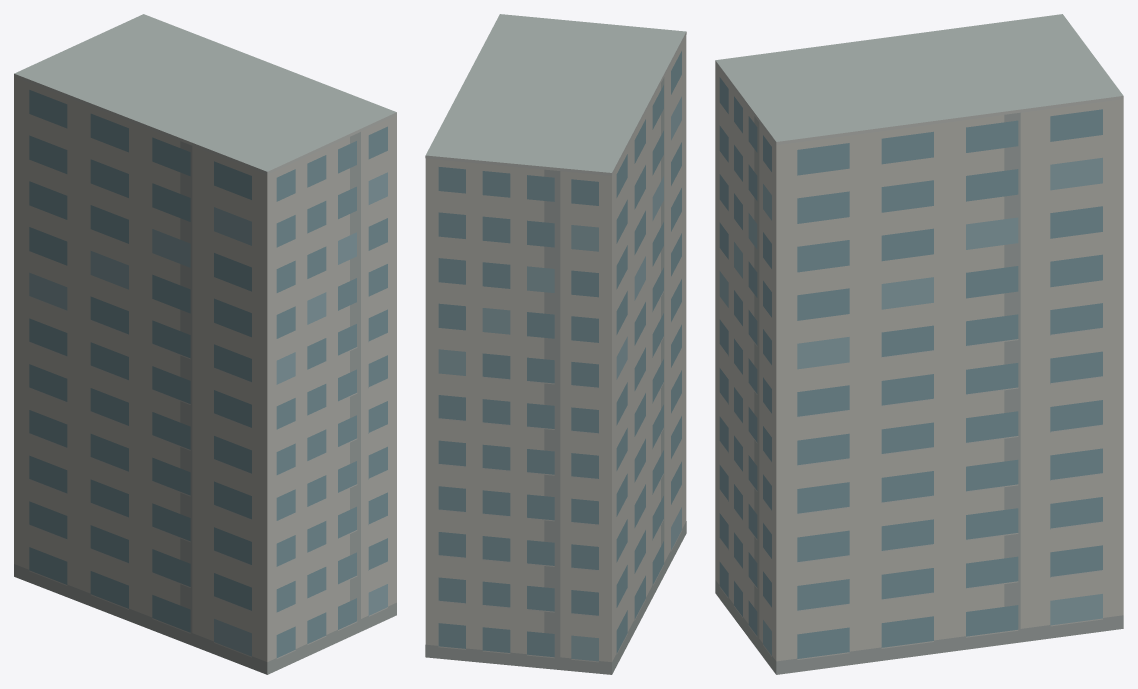
File: residential-5128b538-7953-4126-b828-2611d85b6aa5.glb
3 renders of one model, left to right at view 1: azimuth 30°, elevation 25°; view 2: azimuth 150°, elevation 25°; view 3: azimuth 270°, elevation 25°, orthographic. The views are drawn at different scales.
Parts seen in each view (by area): view 1: residential-5128b538-7953-4126-b828-2611d85b6aa5.tmp; view 2: residential-5128b538-7953-4126-b828-2611d85b6aa5.tmp; view 3: residential-5128b538-7953-4126-b828-2611d85b6aa5.tmp.
Part boxes in pixels (left/top/right/bottom): residential-5128b538-7953-4126-b828-2611d85b6aa5.tmp: left=14, top=14, right=396, bottom=674; residential-5128b538-7953-4126-b828-2611d85b6aa5.tmp: left=425, top=14, right=686, bottom=674; residential-5128b538-7953-4126-b828-2611d85b6aa5.tmp: left=715, top=14, right=1123, bottom=674.
Size of the model in its own units: 21.12 by 41 by 28.48.
